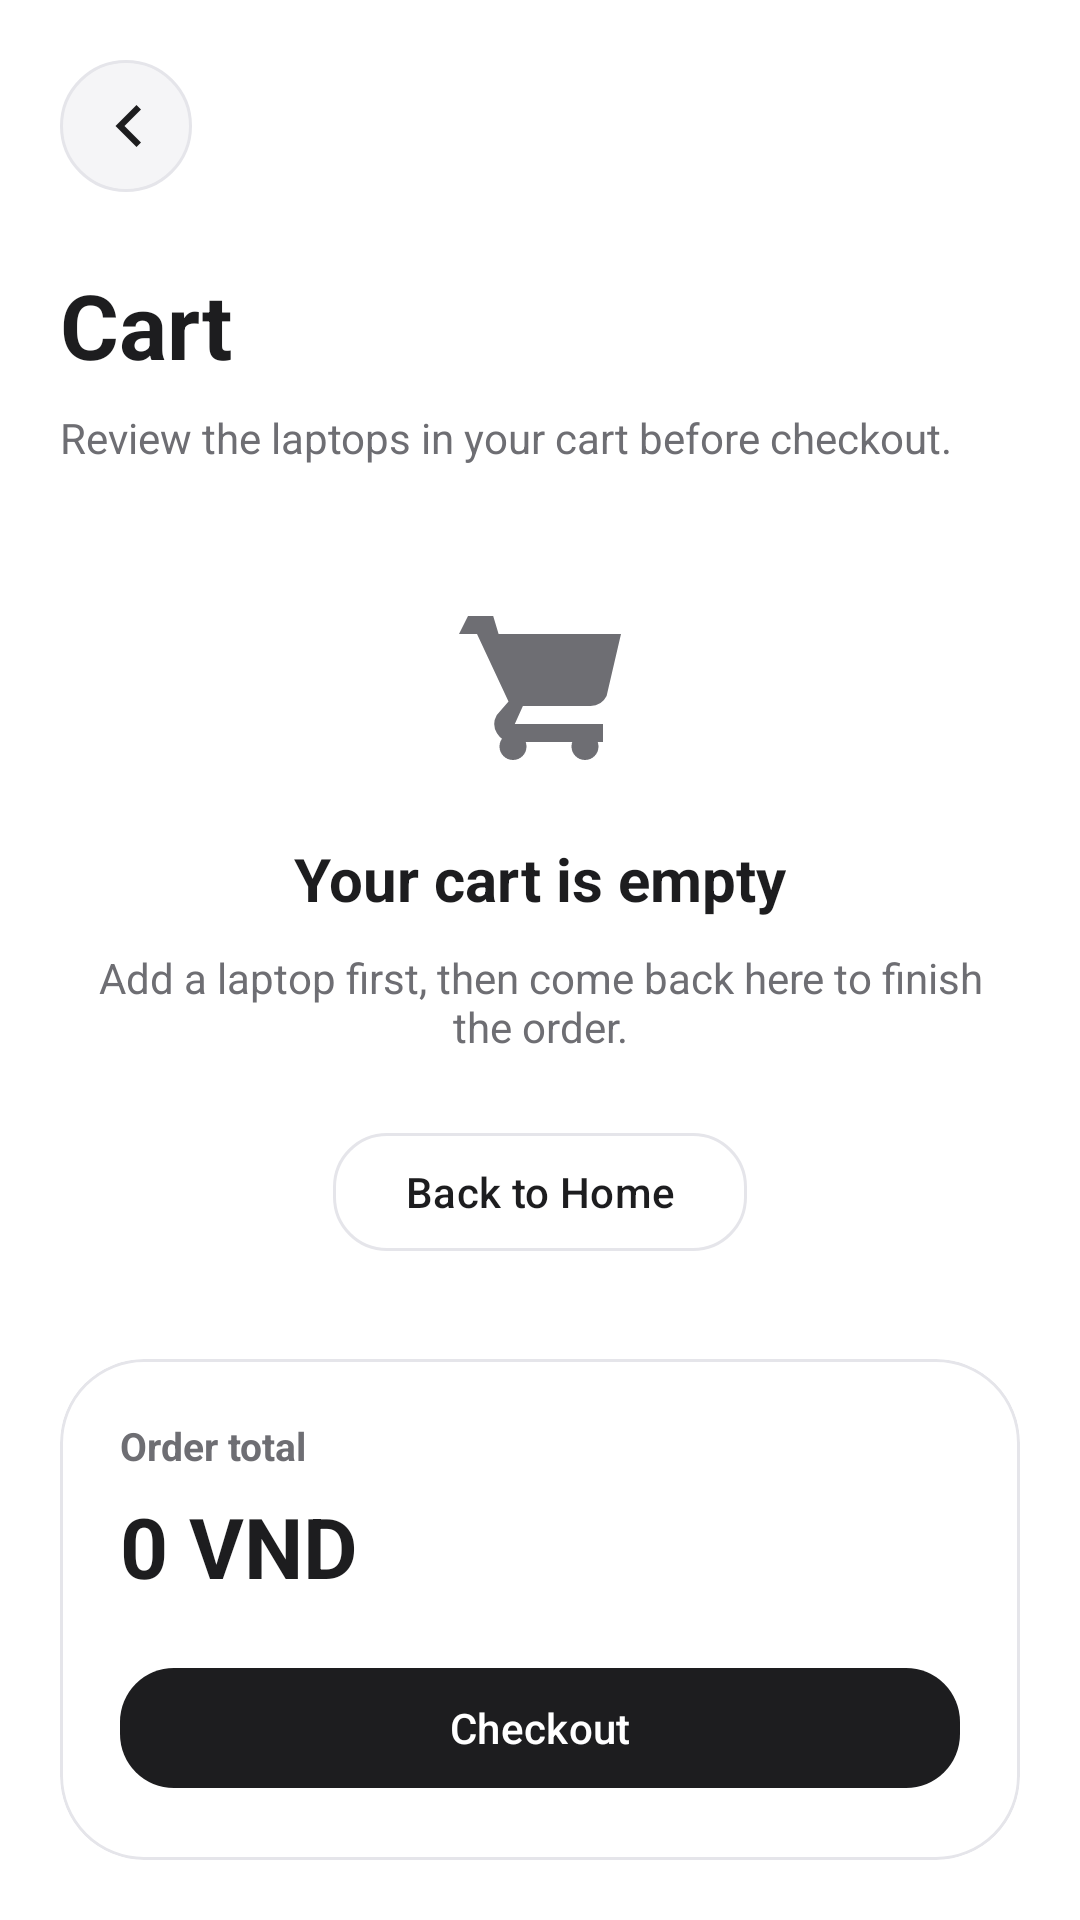

Named icons in this screenshot (1080w x 1920h) and their centers, (x,y):
Back: (126,126)
